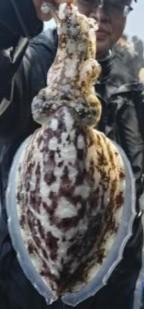Cephalopod: (5, 0, 136, 308)
